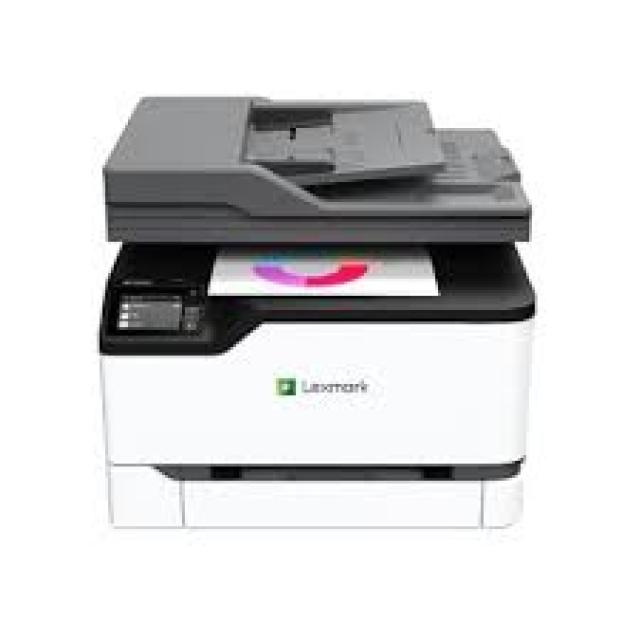printer: (97, 91, 534, 529)
